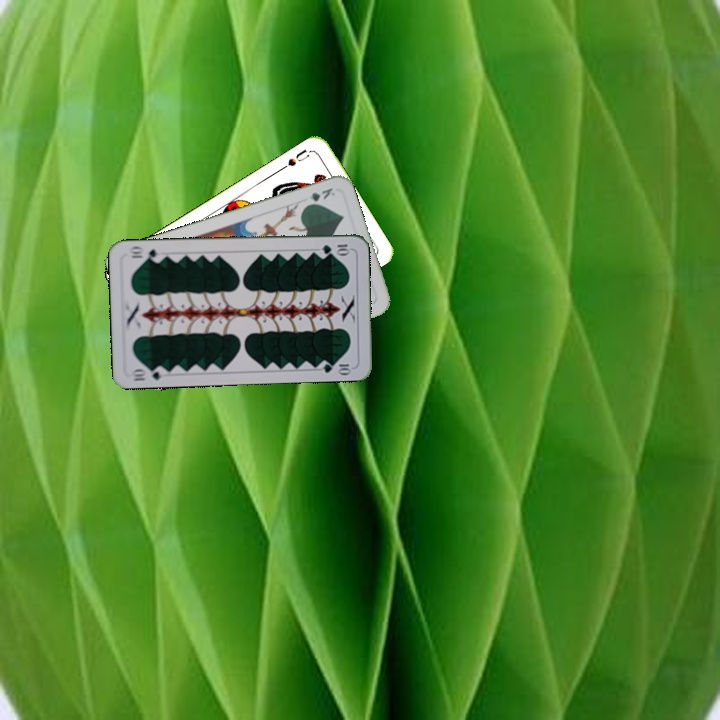G10: (128, 363, 168, 384), (318, 240, 352, 256)
GK: (301, 184, 338, 209)
SU: (277, 145, 312, 172)
